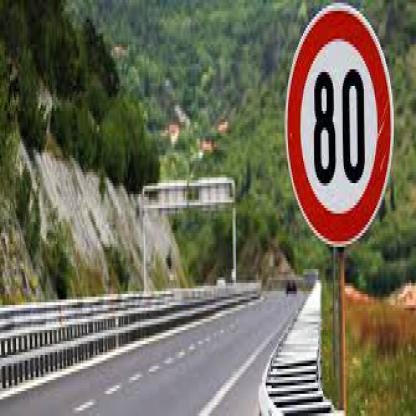Speed Limit 80: (287, 6, 390, 244)
